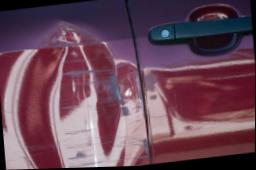Fender: (0, 18, 151, 170)
